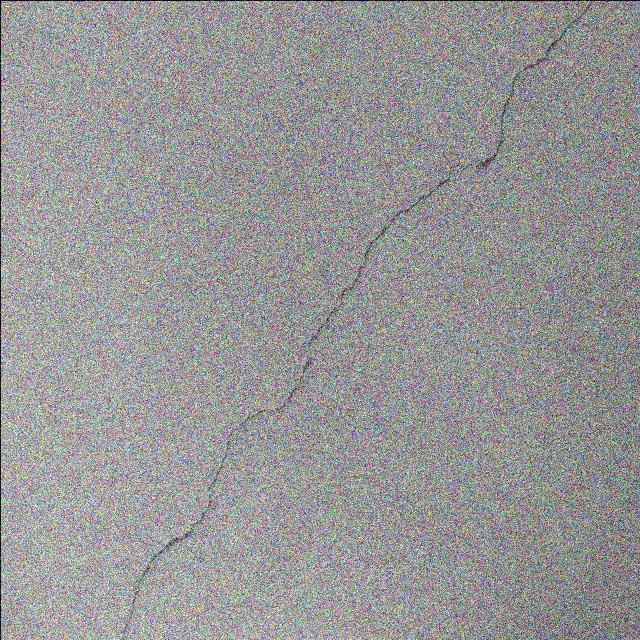SurfaceCrack: (74, 0, 636, 639)
